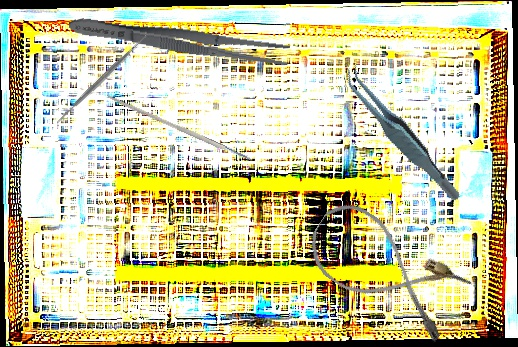Cannula: (297, 193, 475, 346)
Dressing Forceps: (67, 10, 291, 70)
Scalpel Handle: (105, 93, 252, 163)
Spatula Surgical: (49, 29, 154, 131)
Tissue Forceps: (340, 48, 463, 220)
